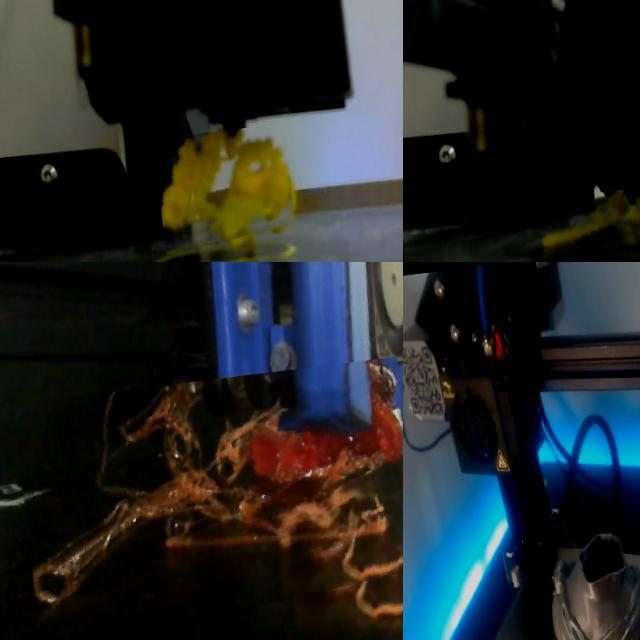spaghetti: (32, 358, 403, 606), (161, 130, 291, 242), (542, 189, 640, 250)
